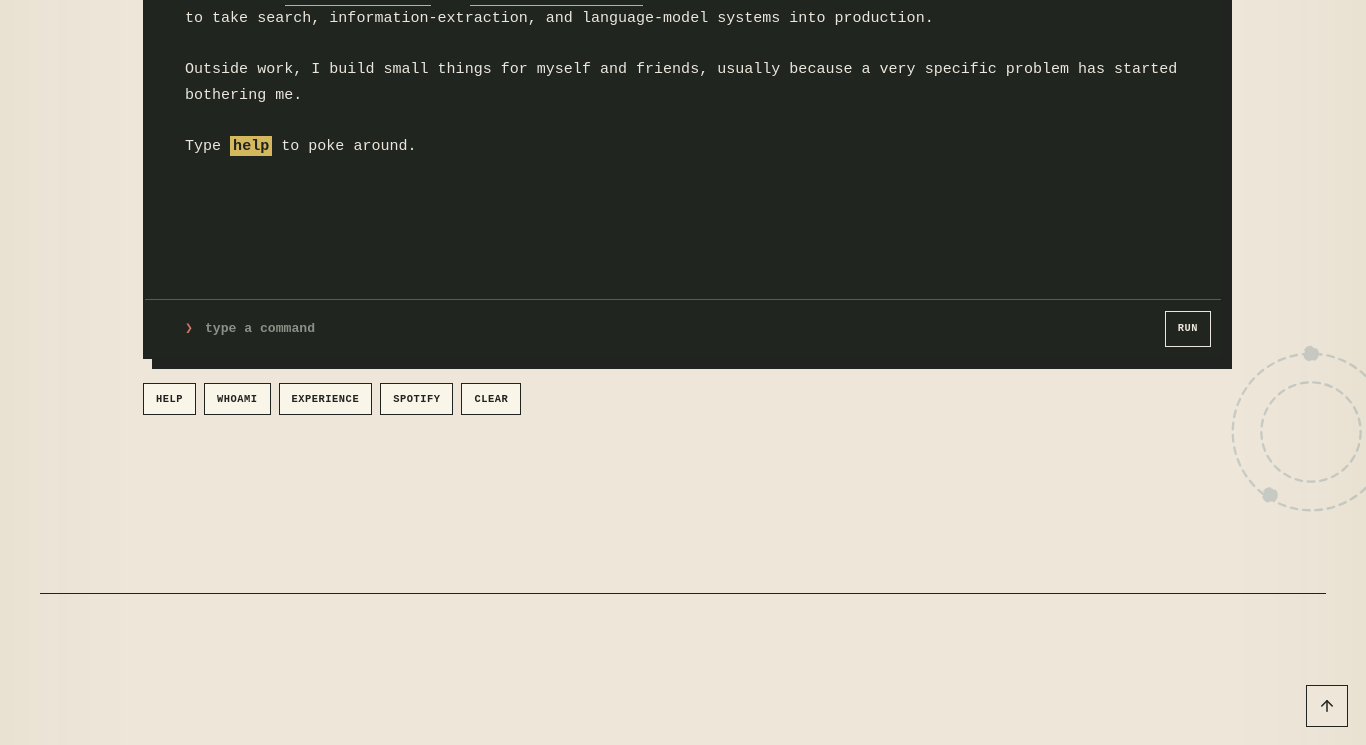
terminal commands › suggested commands are interactive
The width and height of the screenshot is (1366, 745).
(page scrolled)
Click the button "help". click: click(170, 399)
box: [143, 383, 196, 415]
(page scrolled)
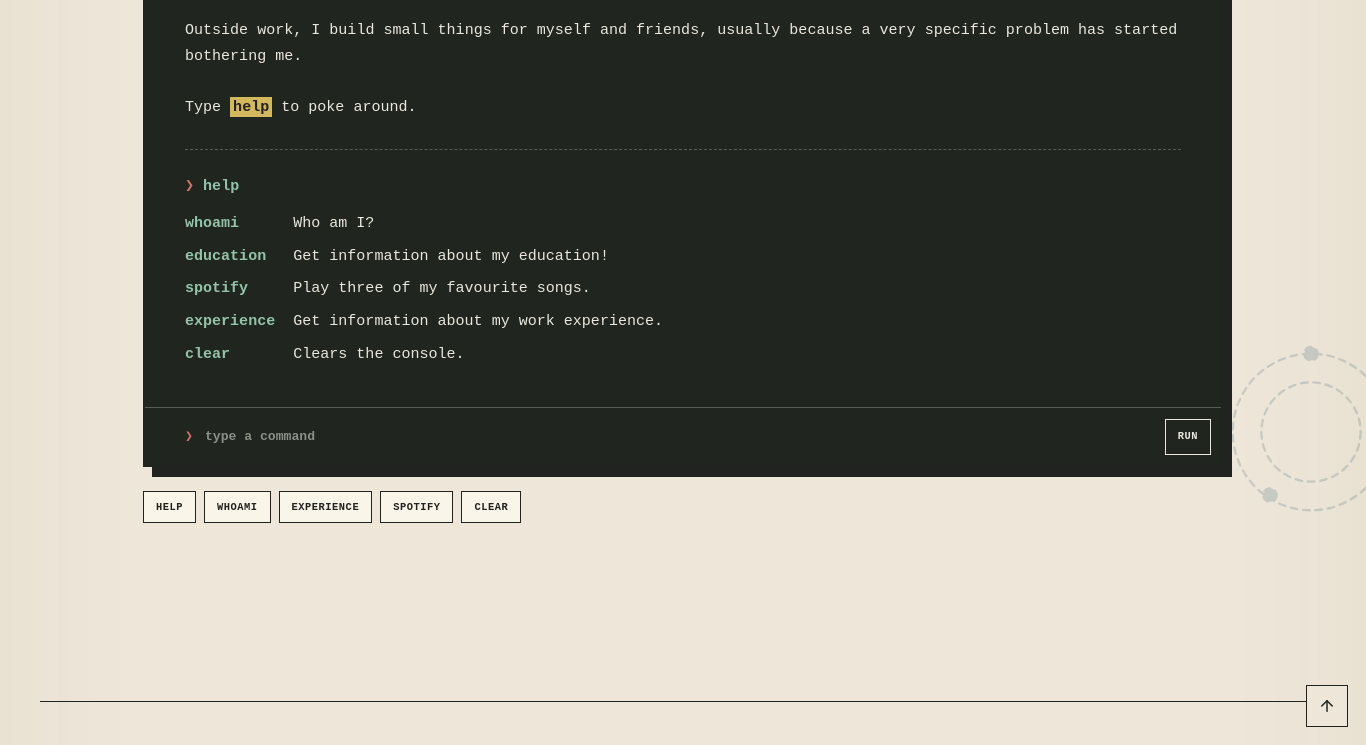
expect the text "Who am I?" is shown: met, box [293, 214, 374, 232]
